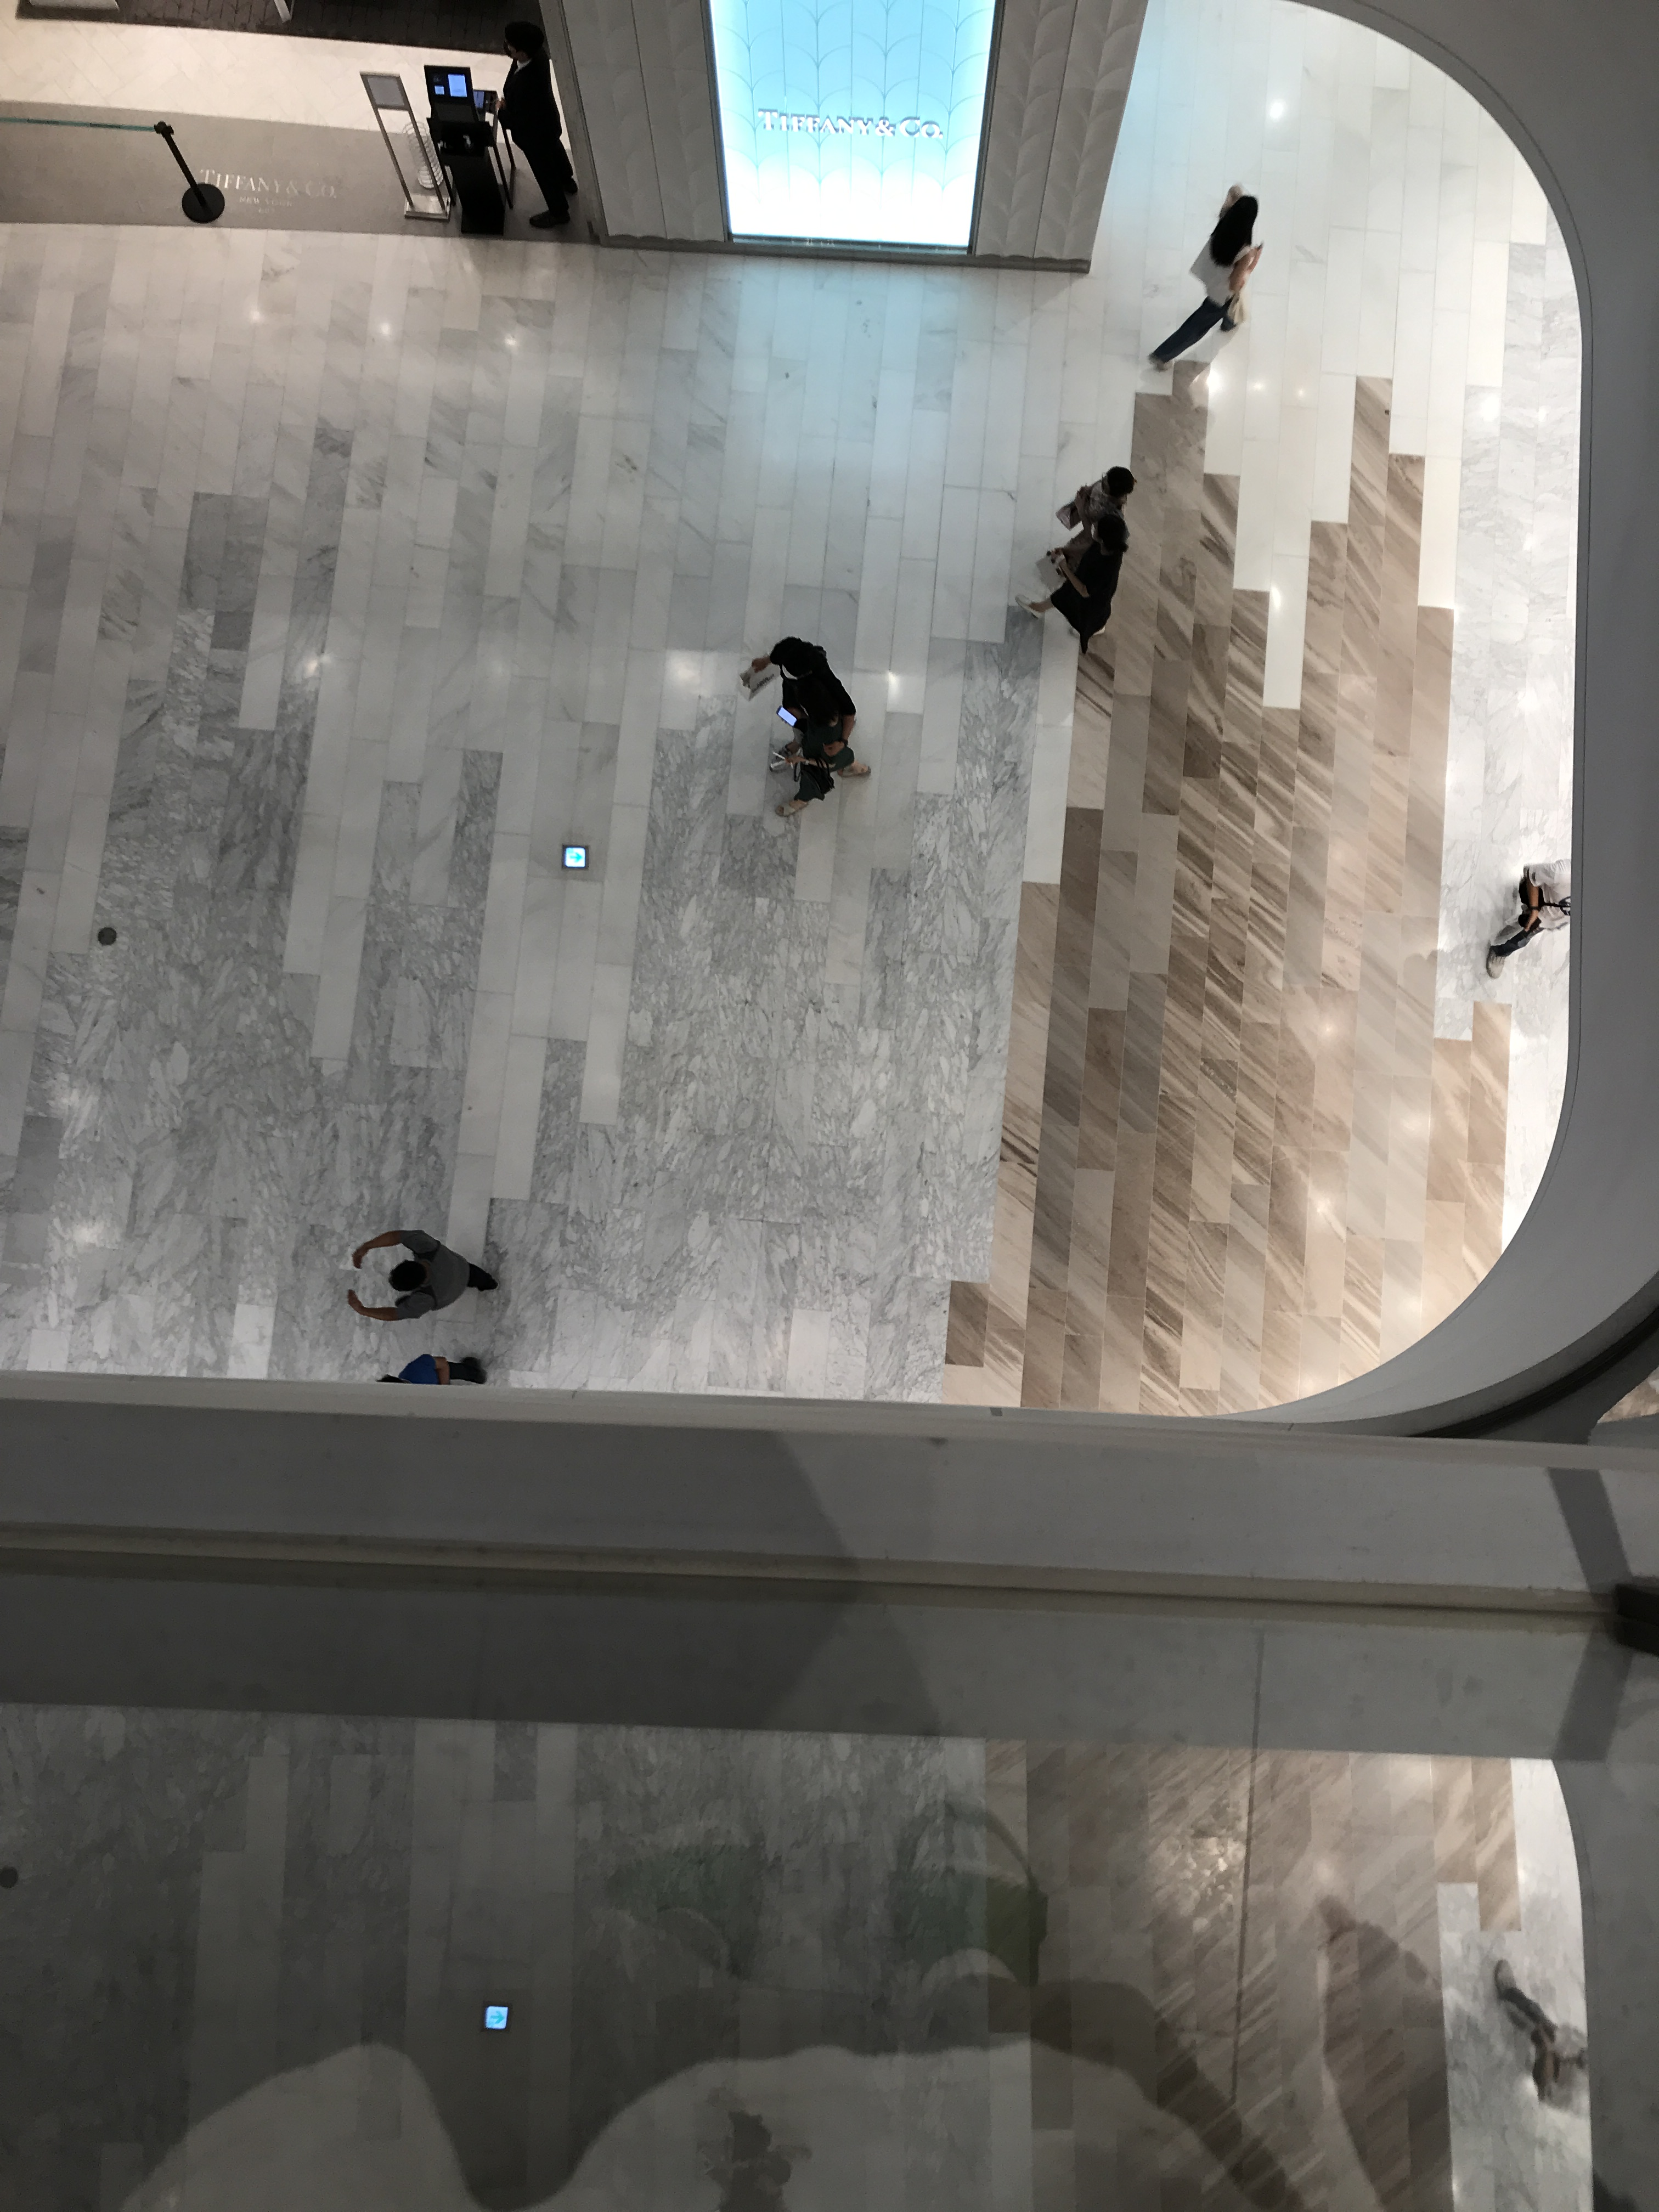person: (1148, 184, 1263, 372), (494, 20, 580, 231), (345, 1227, 499, 1325), (1014, 514, 1127, 637), (1483, 856, 1572, 982), (752, 636, 834, 770), (774, 682, 850, 819), (1056, 467, 1137, 558), (374, 1351, 487, 1386)
